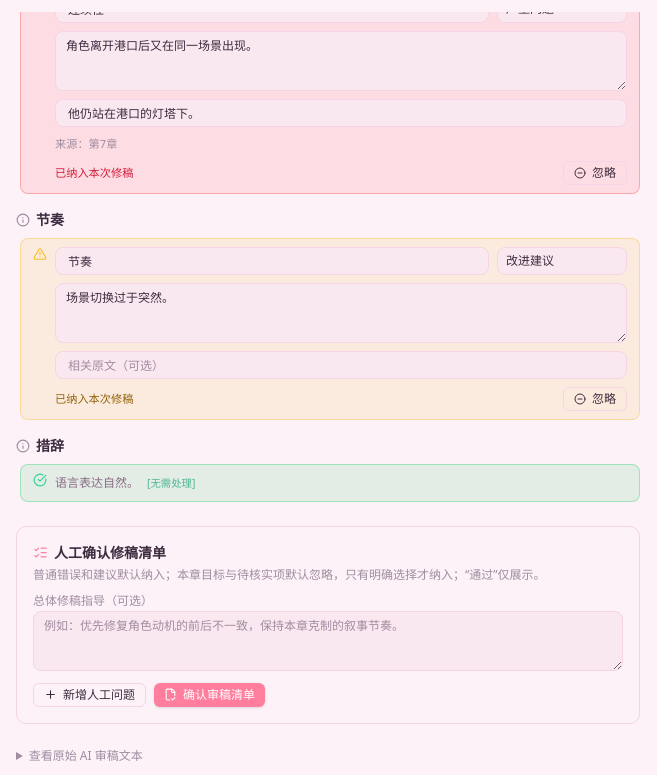
Test case: ReviewReport human-confirmed revision flow › rejects confirmation when the draft no longer matches the AI review generation source
The width and height of the screenshot is (657, 775).
Click the button "确认审稿清单": click(210, 695) [154, 683, 265, 707]
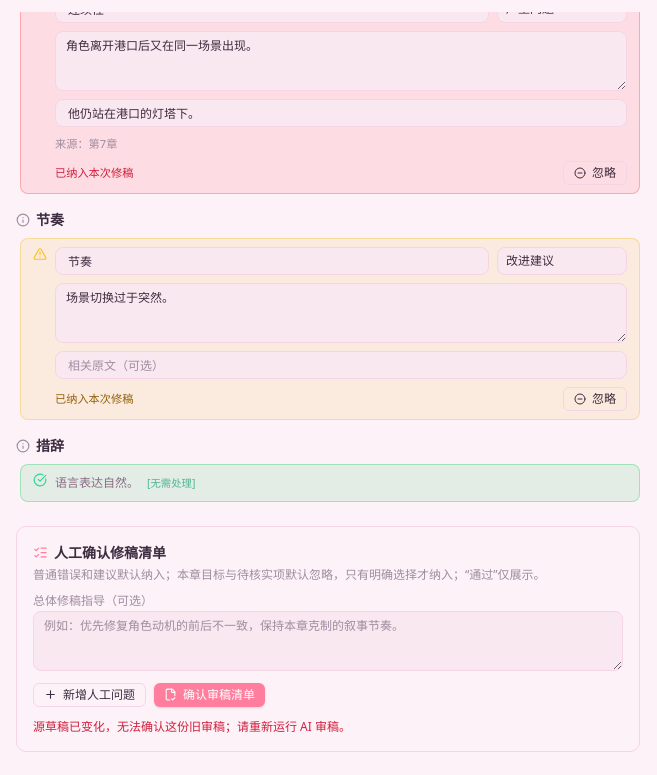
Check: the message shows "源草稿已变化", box [33, 718, 351, 735]
